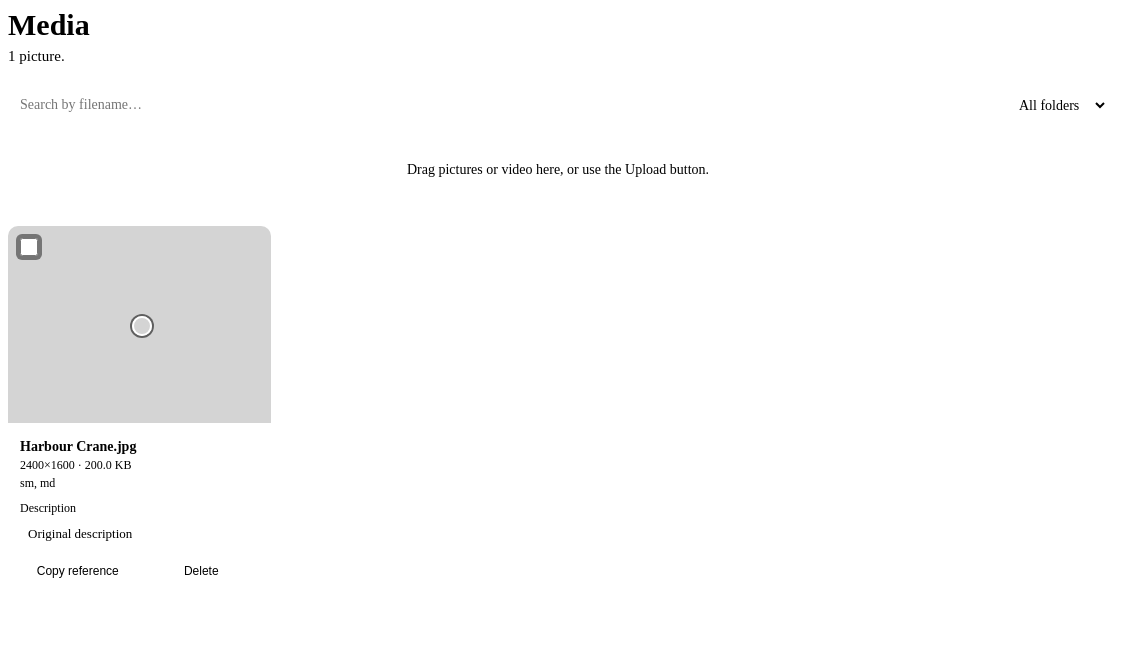
Scenario: media description persistence › keeps the saved description when the server refuses an edit
The width and height of the screenshot is (1122, 651).
Replace the text in the field with class "alt-input" with "Changed description": x=148, y=534 [20,520,275,549]
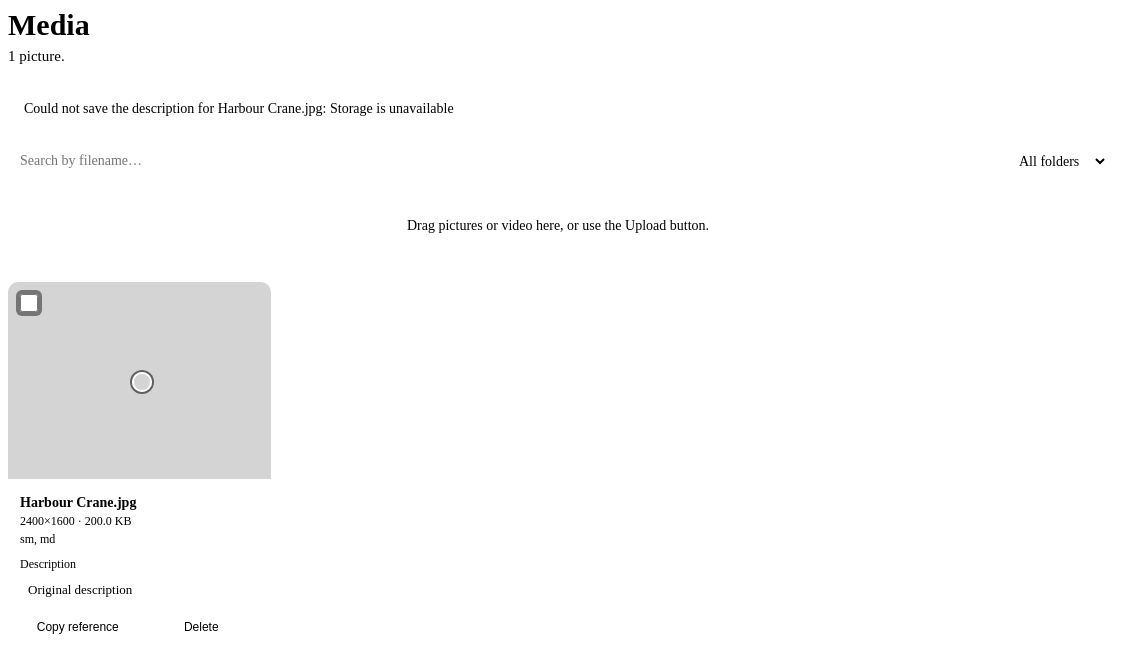
Expected: the field with class "alt-input" holds "Original description", [20,576,271,605]
Expected: the message "Could not save the description for Harbour Crane.jpg: Storage is unavailable" is shown, [24,101,454,116]
